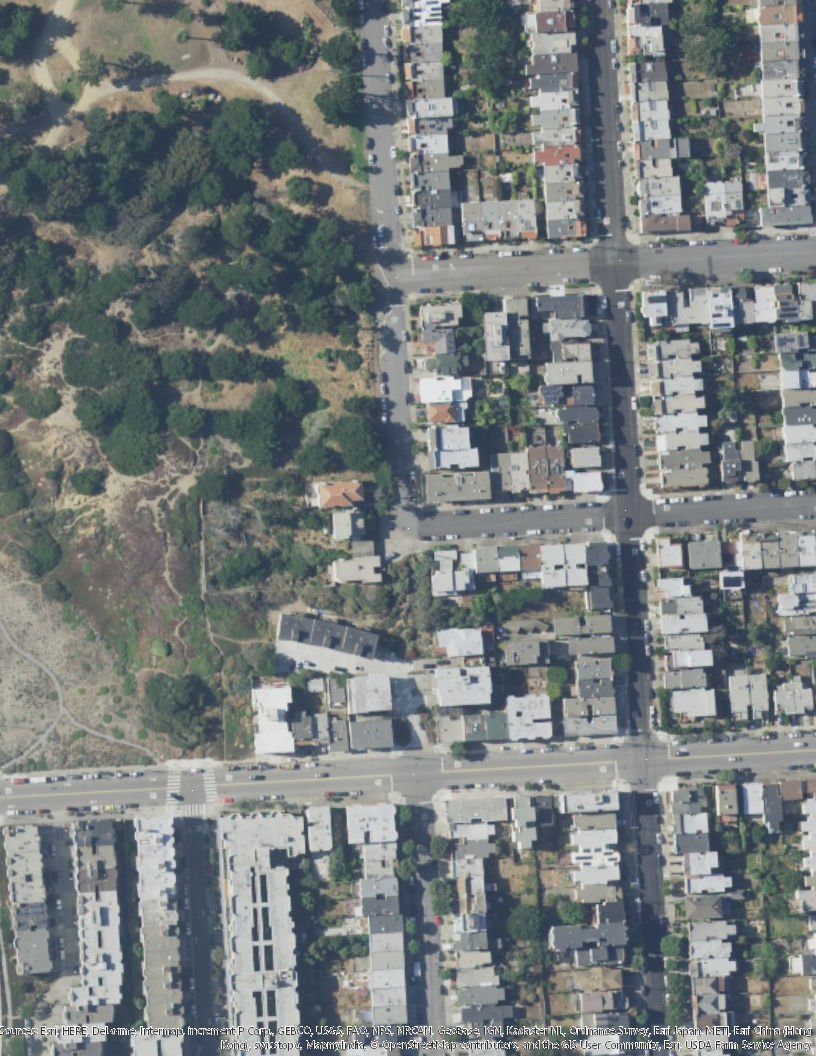zebracross: (200, 766, 219, 803), (165, 765, 182, 802), (180, 801, 207, 819)
